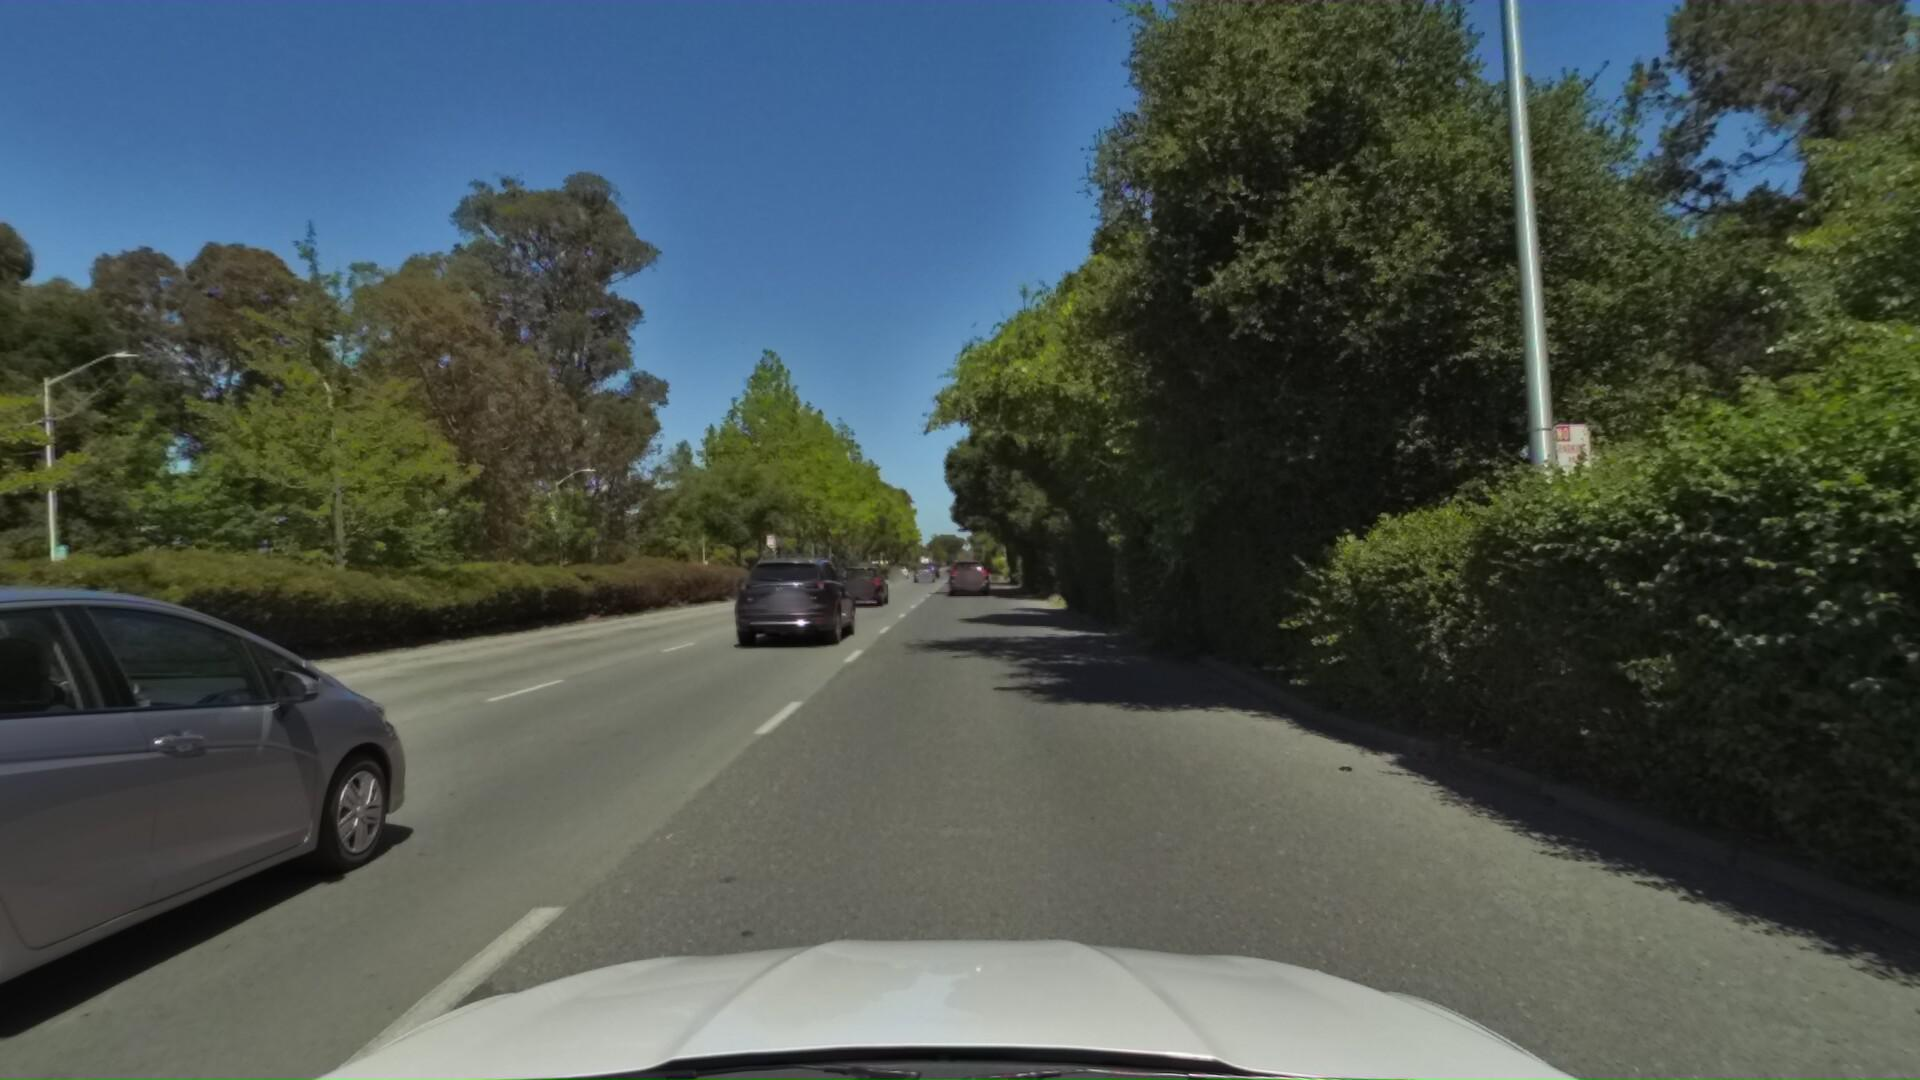car: (0, 563, 448, 1080), (709, 545, 860, 654), (825, 560, 893, 615), (943, 558, 992, 599), (905, 560, 935, 584)
